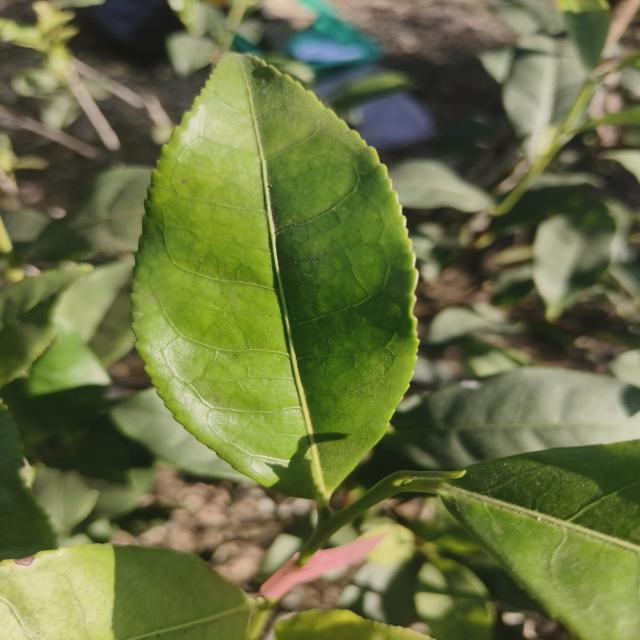Leaf: (133, 54, 417, 508), (440, 440, 640, 640), (382, 367, 640, 470), (0, 544, 252, 640), (109, 387, 252, 483), (25, 166, 151, 262), (0, 264, 92, 388), (502, 35, 585, 162), (25, 320, 111, 437), (533, 201, 616, 320), (56, 258, 135, 366), (414, 556, 495, 640), (32, 456, 99, 546), (389, 159, 493, 212), (557, 0, 610, 69), (429, 307, 504, 344), (166, 31, 214, 77)
